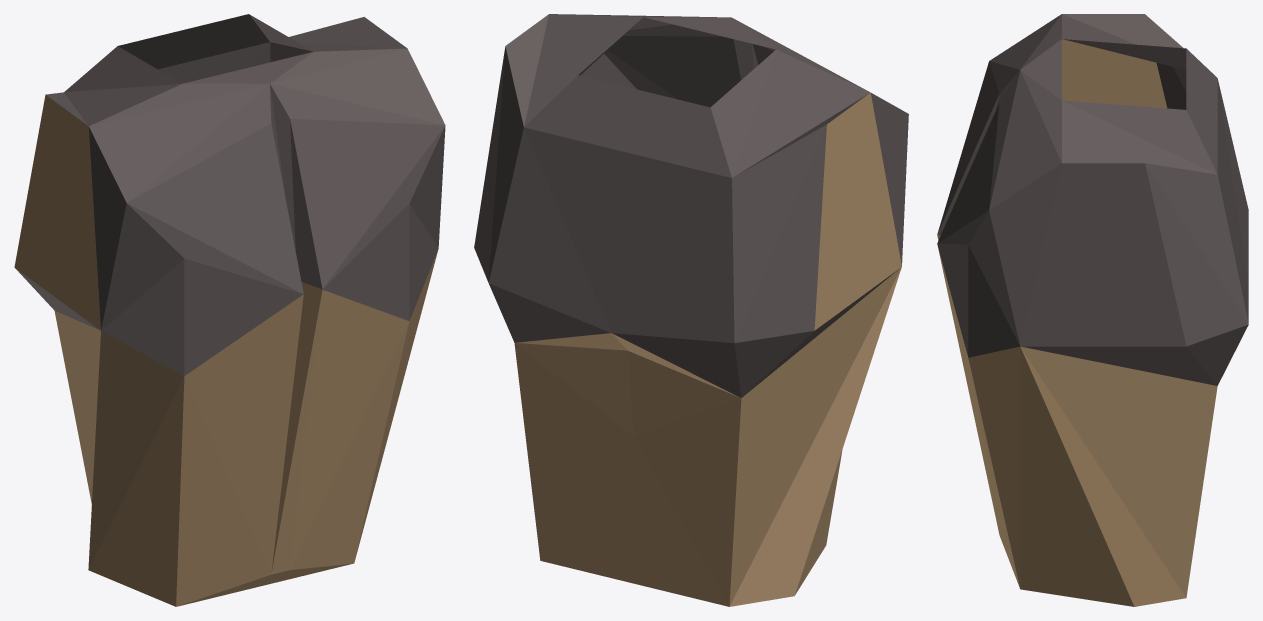
File: npc_world_hickton_6.obj
The picture shows the model from 3 angles, left to right: view 1: azimuth 30°, elevation 25°; view 2: azimuth 150°, elevation 25°; view 3: azimuth 270°, elevation 25°; orthographic projection. The views are drawn at different scales.
Bounding box in the file's own units: 0.2812 × 0.3984 × 0.2344.
